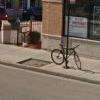Bicycle: (47, 39, 83, 70)
